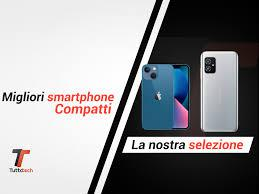Smartphone: (199, 50, 242, 131), (140, 62, 189, 127)
